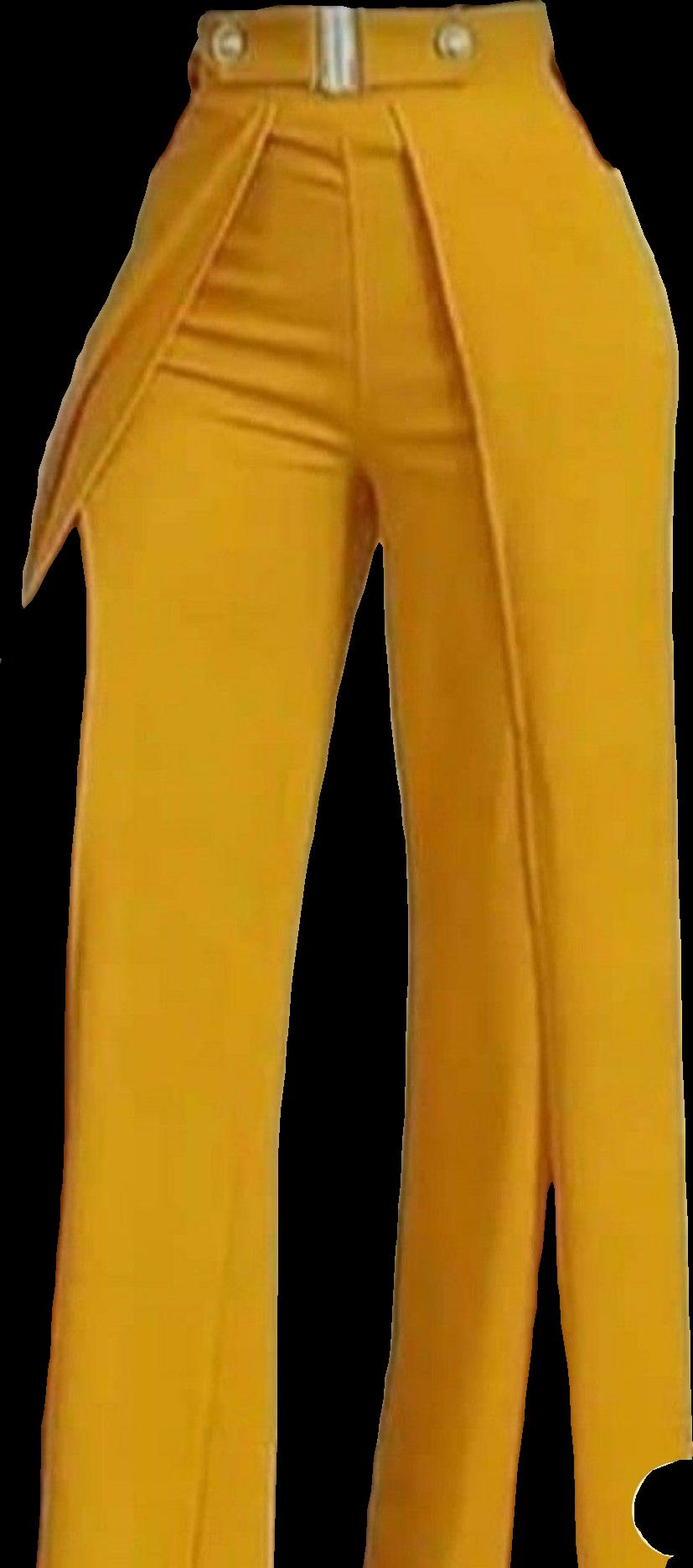Hemline: (15, 97, 282, 611), (360, 1167, 686, 1567), (28, 1546, 279, 1567)
Pantleg: (328, 3, 692, 1567), (21, 6, 381, 1567)
Waistline: (183, 65, 564, 112), (199, 0, 543, 29)
